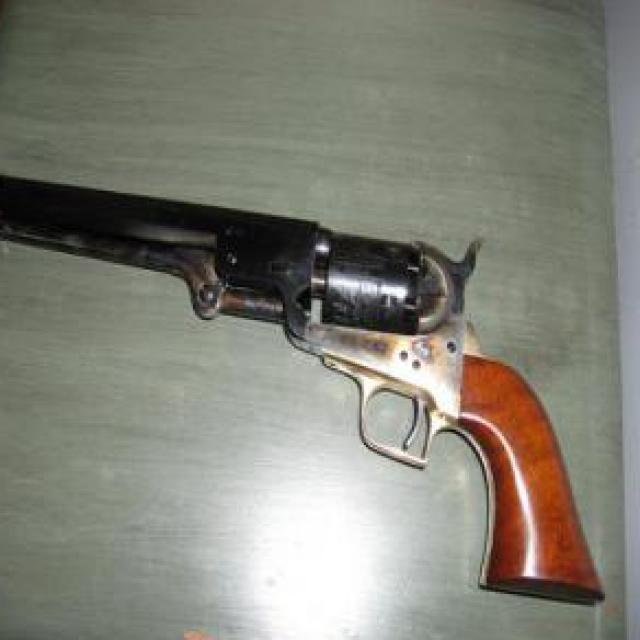pistol: (0, 167, 607, 609)
